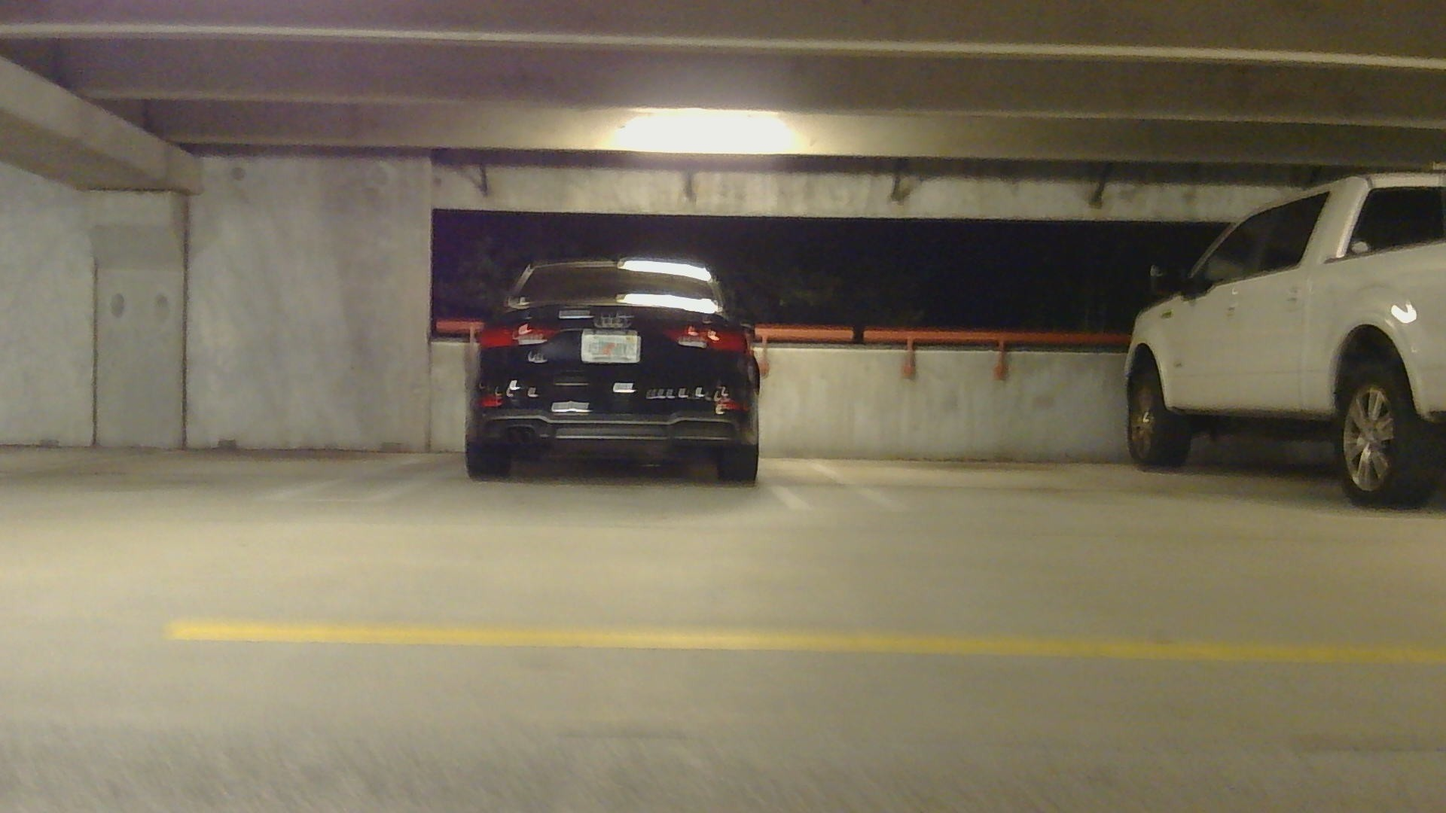empty_spot: (797, 414, 1353, 522), (0, 392, 437, 507)
occupied_spot: (1127, 168, 1445, 516), (460, 246, 772, 485)
